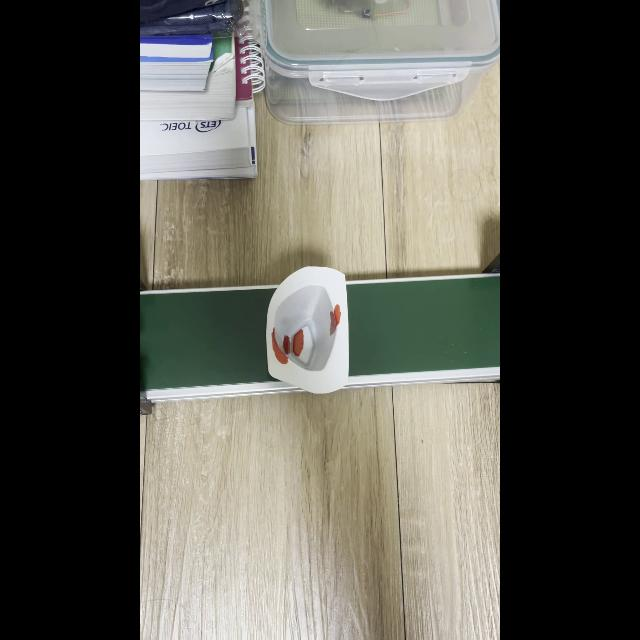dirty: (264, 290, 350, 378)
